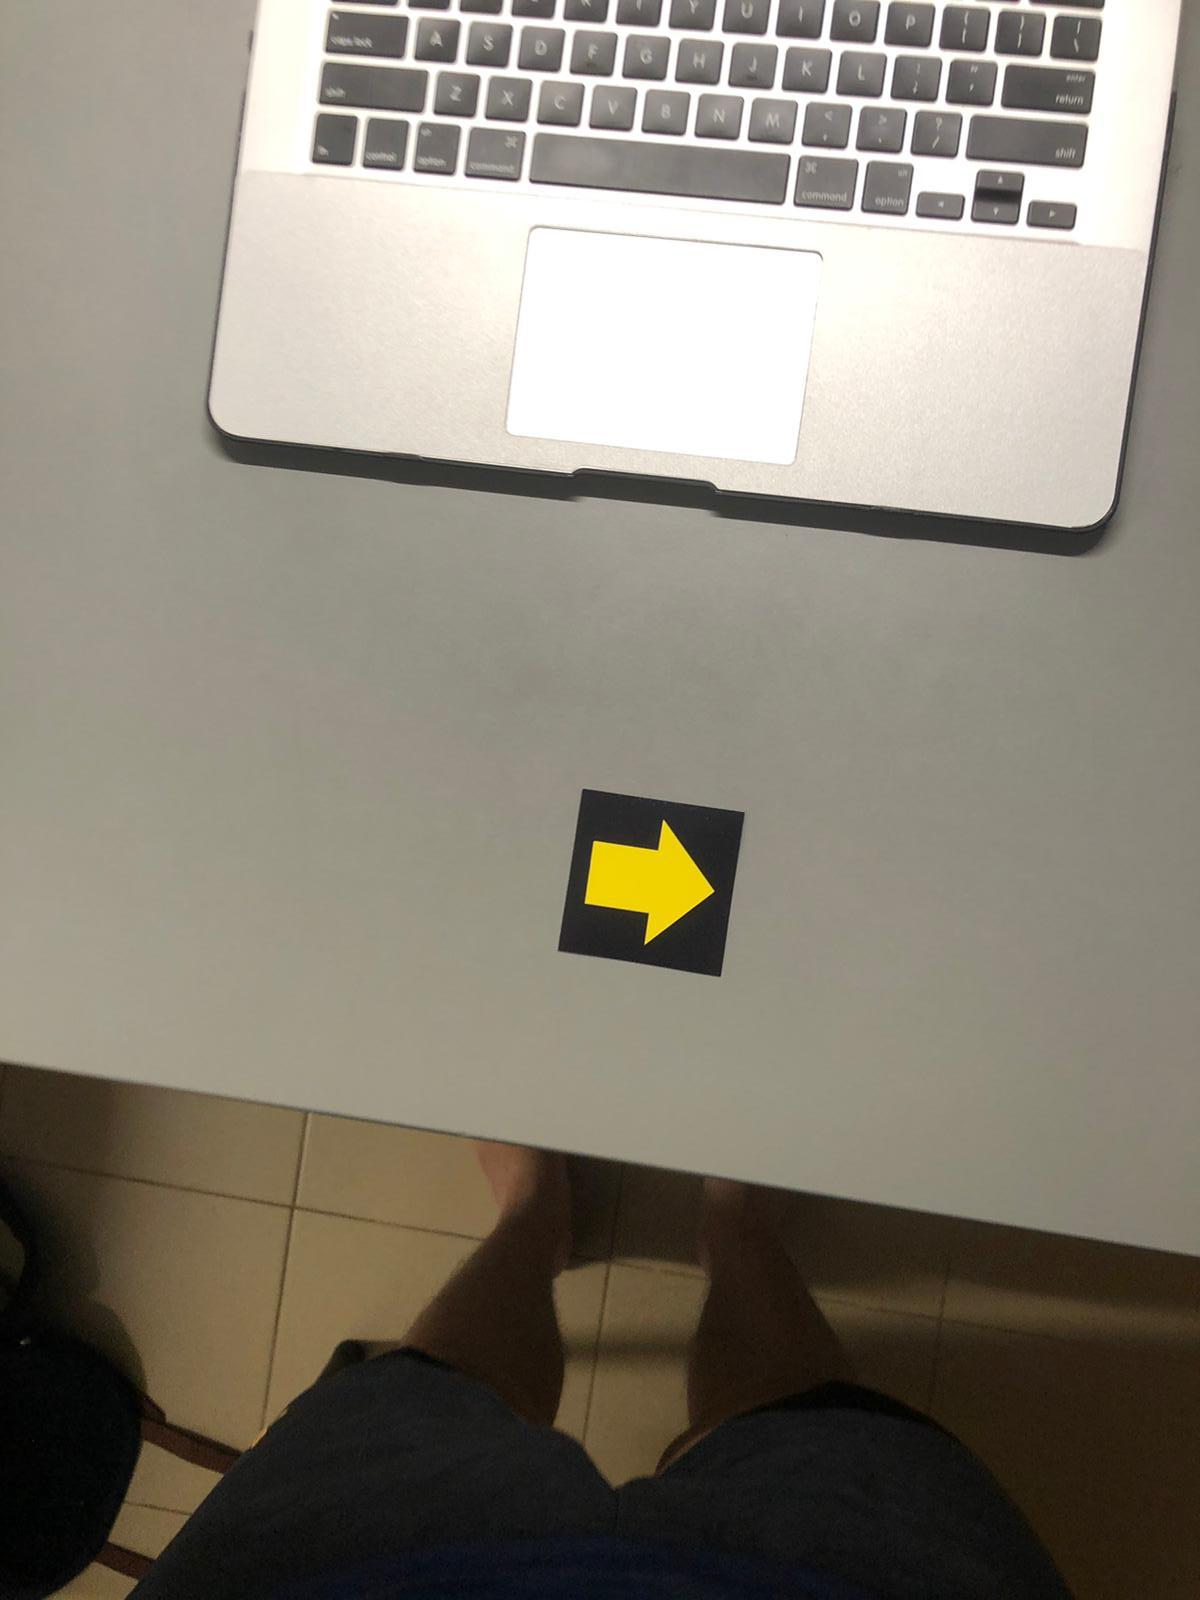Right Arrow: (574, 787, 735, 964)
